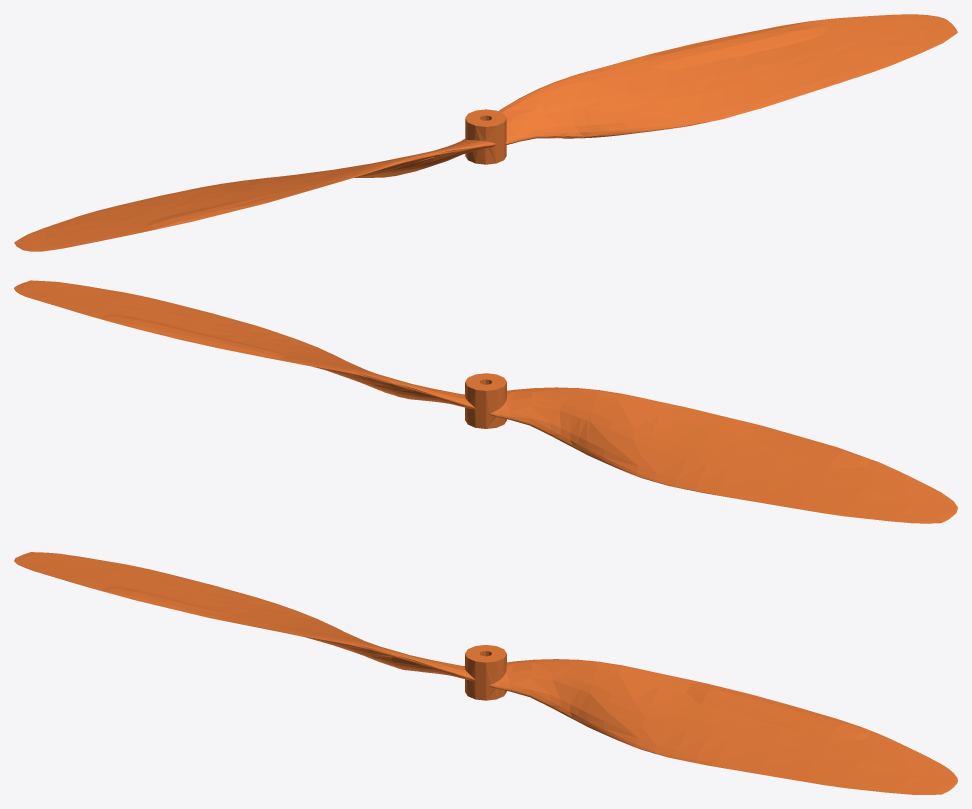
File: rotor_0__rotor_0_visual.glb
The picture shows the model from 3 angles, top to bottom: view 1: azimuth 30°, elevation 25°; view 2: azimuth 150°, elevation 25°; view 3: azimuth 330°, elevation 25°; orthographic projection.
Visible parts, largest first — view 1: EPP1045_A; view 2: EPP1045_A; view 3: EPP1045_A.
Boxes of the visible parts, x1=… form: EPP1045_A: x1=14, y1=14, x2=957, y2=251; EPP1045_A: x1=14, y1=280, x2=957, y2=523; EPP1045_A: x1=14, y1=552, x2=957, y2=794.
Size of the model in its own units: 0.2577 by 0.0103 by 0.028.
